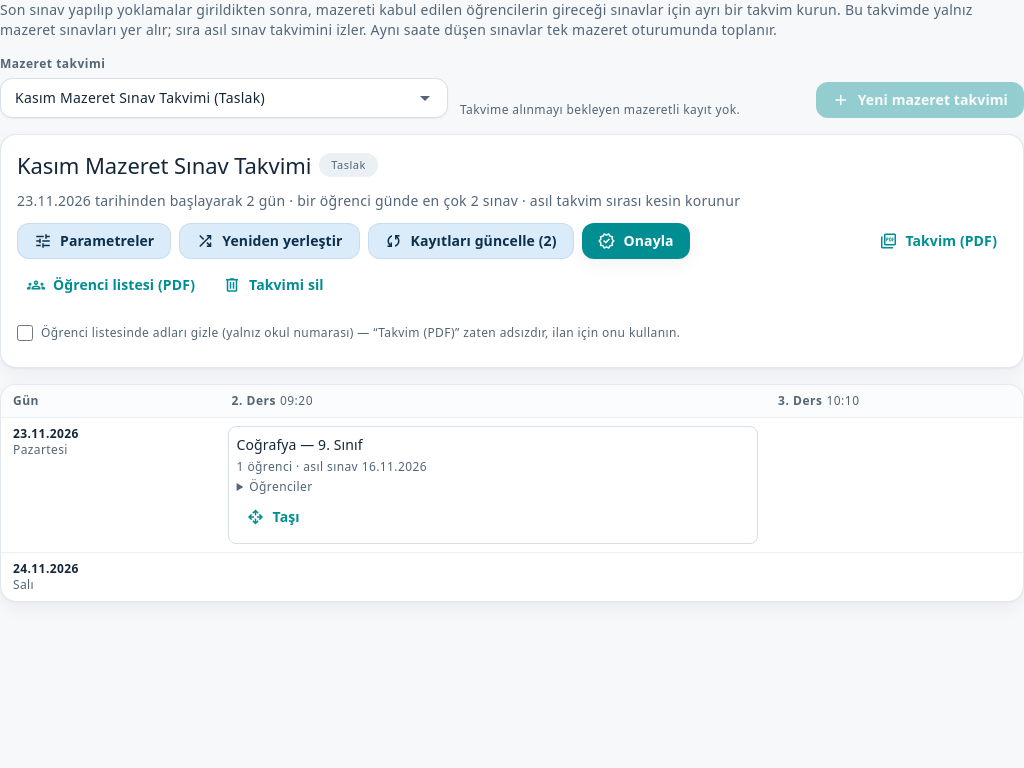
Test: MazeretTakvimi › yeniden yerleştirir, yeni kayıtları ekler ve parametreleri değiştirir
What coordinates should you click on to do the following:
click the button "Yeniden yerleştir"
I would click on:
 (269, 241)
Its box is [179,223,360,259].
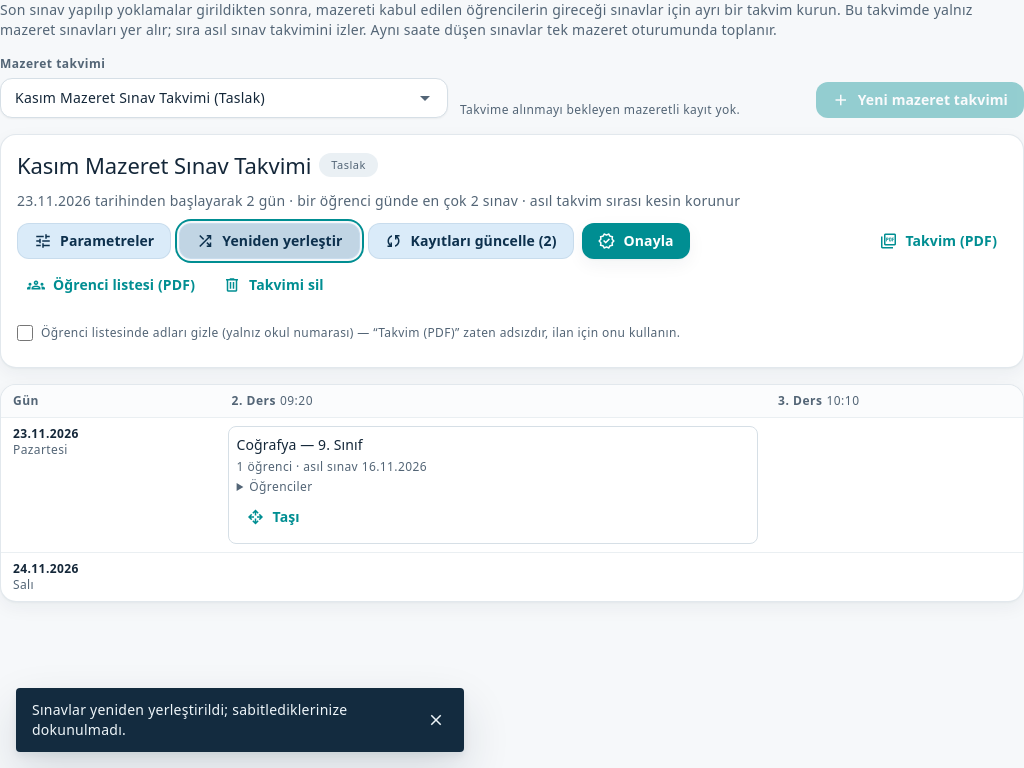
What coordinates should you click on to do the following:
click the button "Kayıtları güncelle (2)"
I would click on:
 (471, 241)
Its box is [368,223,574,259].
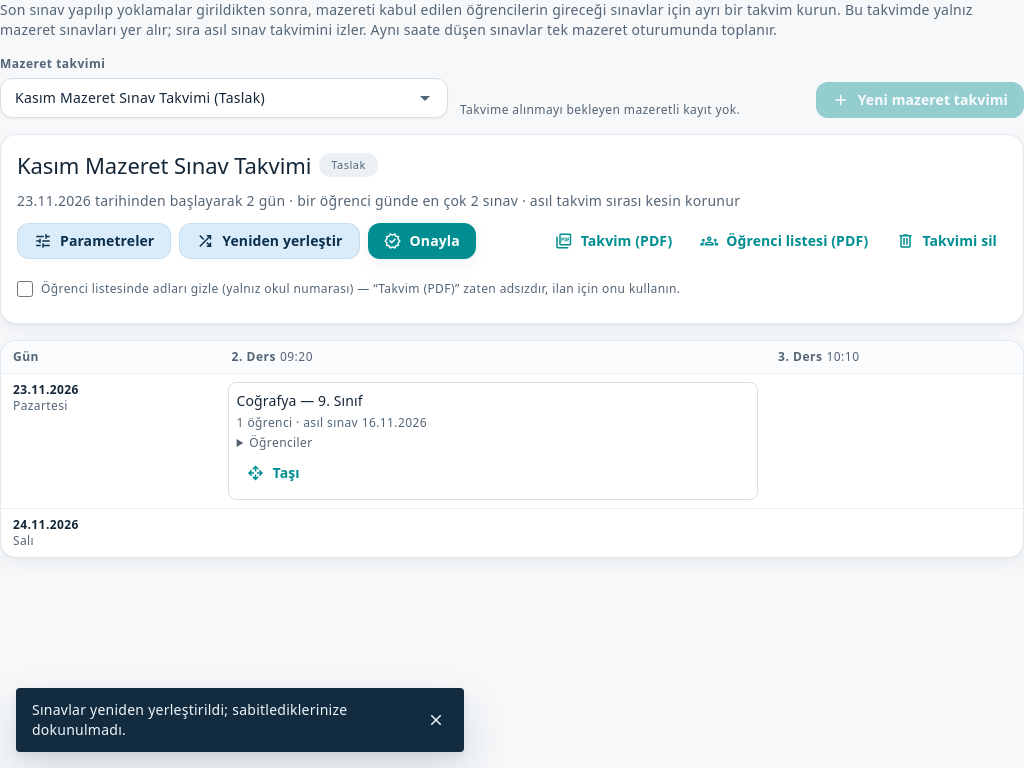
Expected: the button "Kayıtları güncelle" is gone
What coordinates should you click on to do the following:
click the button "Parametreler"
I would click on:
 (94, 241)
Its box is [17,223,171,259].
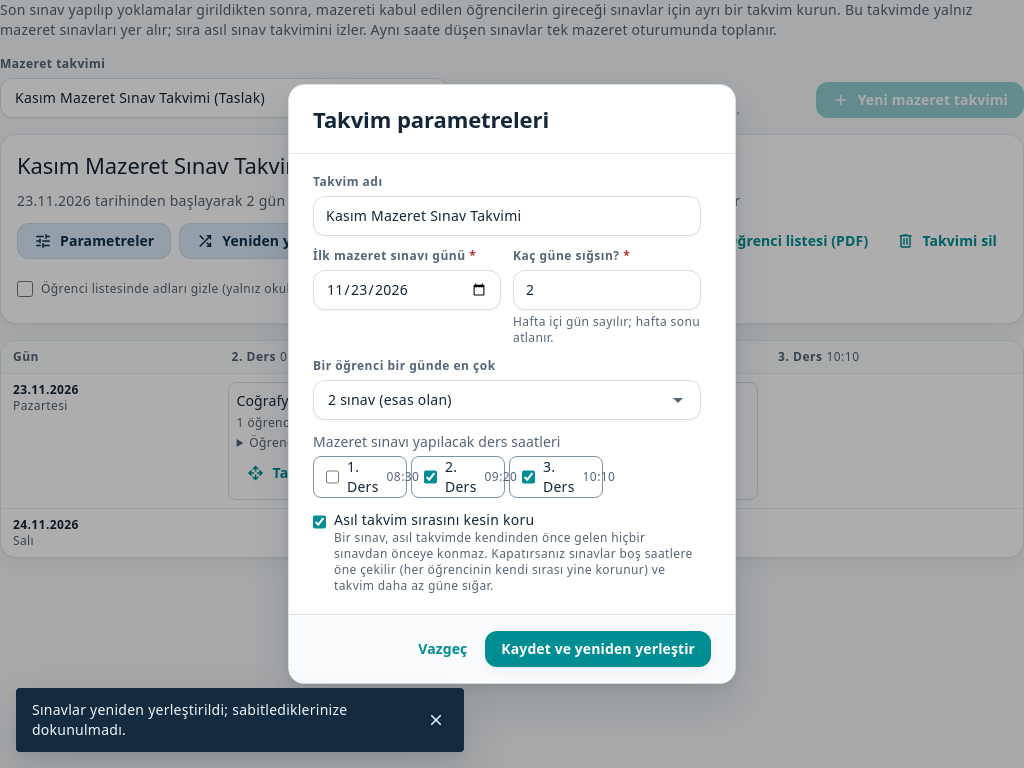
What coordinates should you click on to do the following:
click the checkbox labelled "Asıl takvim sırasını kesin koru"
I would click on:
 (320, 522)
Its box is [313,512,326,532].
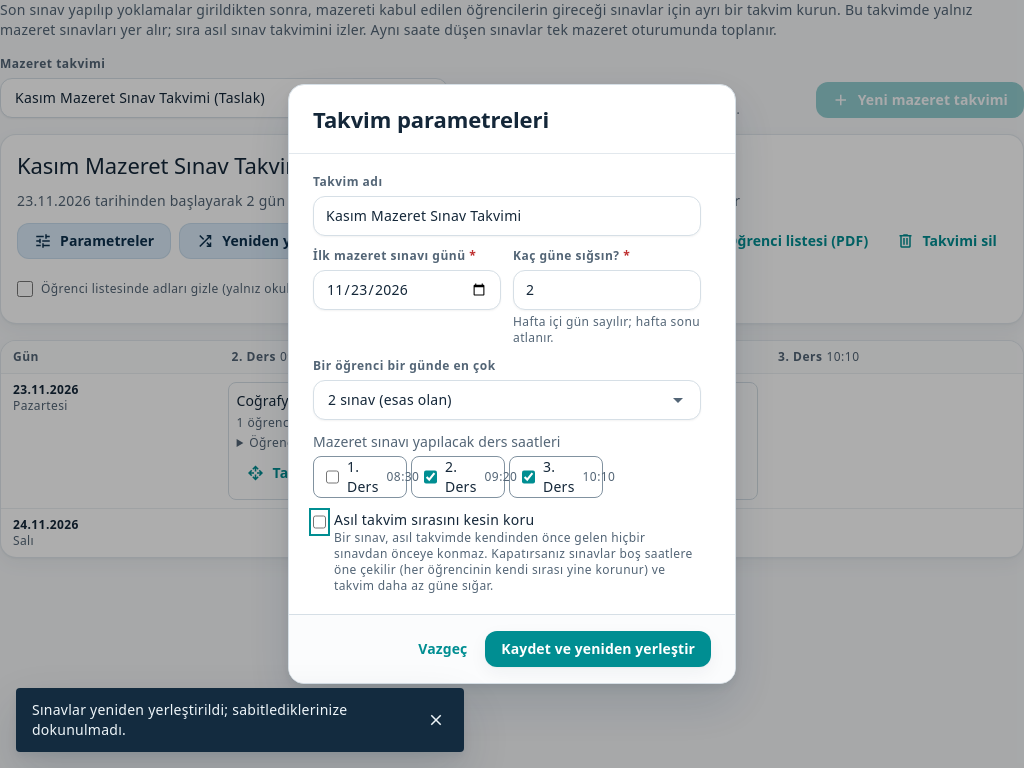
What coordinates should you click on to do the following:
click the button "Kaydet ve yeniden yerleştir"
I would click on:
 (598, 649)
Its box is [485,631,711,667].
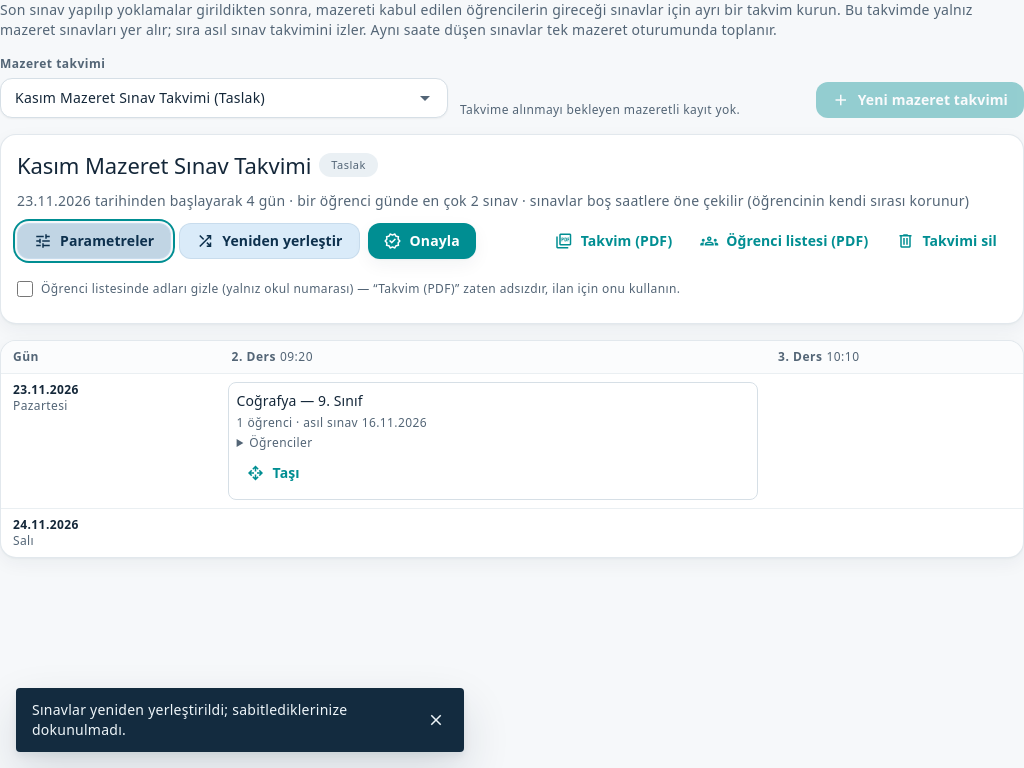
Expected: the text "sınavlar boş saatlere öne çekilir" is shown, [17,191,969,210]
